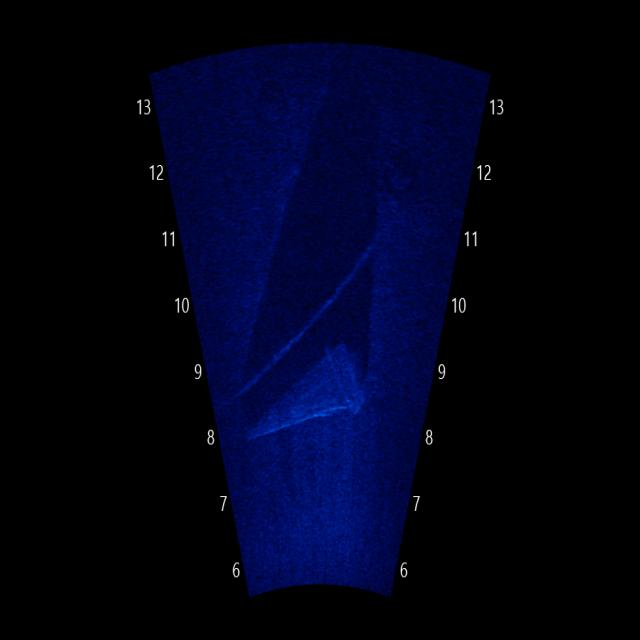triangle: (238, 330, 376, 449)
